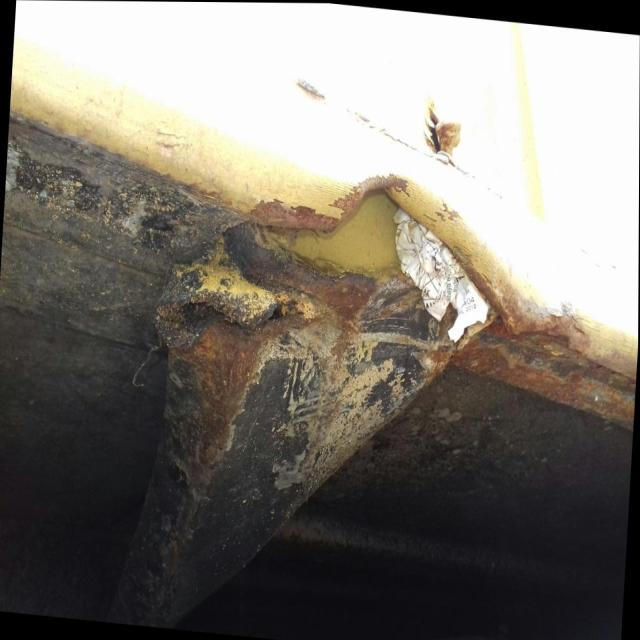hole: (202, 150, 508, 362), (419, 82, 476, 176)
